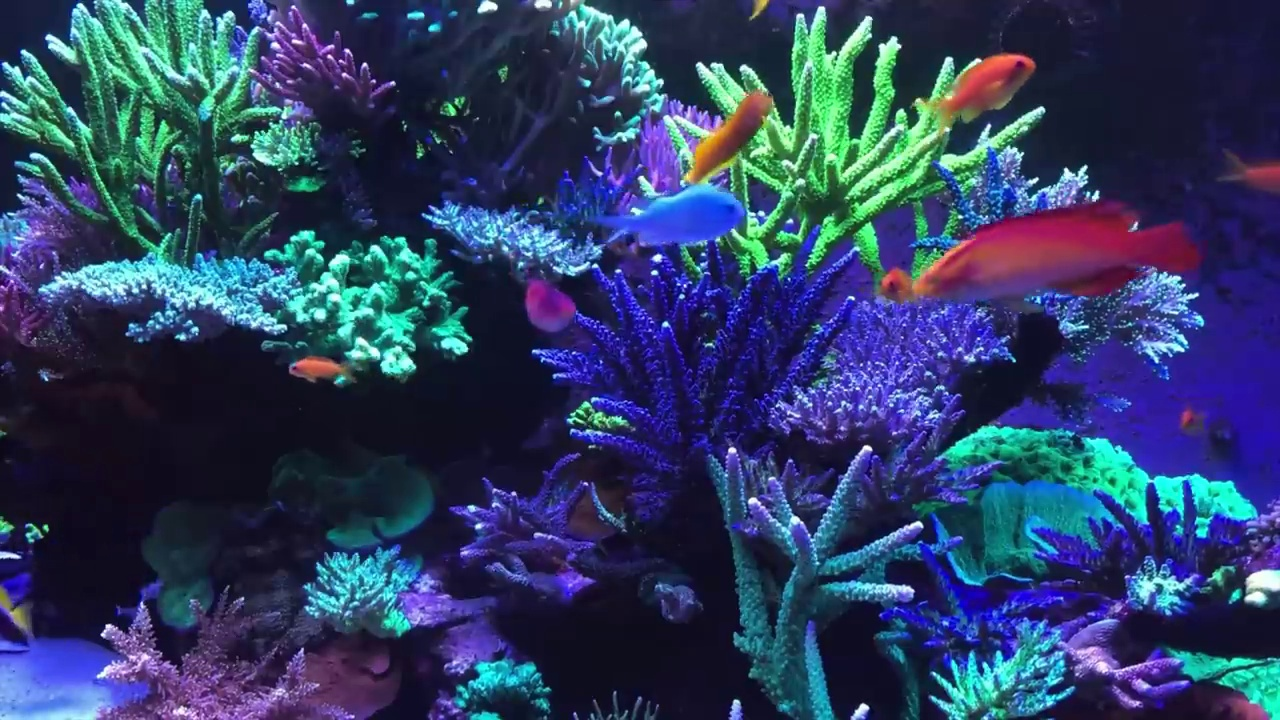fish: (916, 197, 1203, 311), (592, 181, 745, 246), (928, 46, 1039, 135), (685, 92, 776, 187), (1217, 148, 1280, 194), (525, 279, 576, 333), (282, 354, 346, 382), (880, 266, 916, 304), (1175, 404, 1207, 436)
